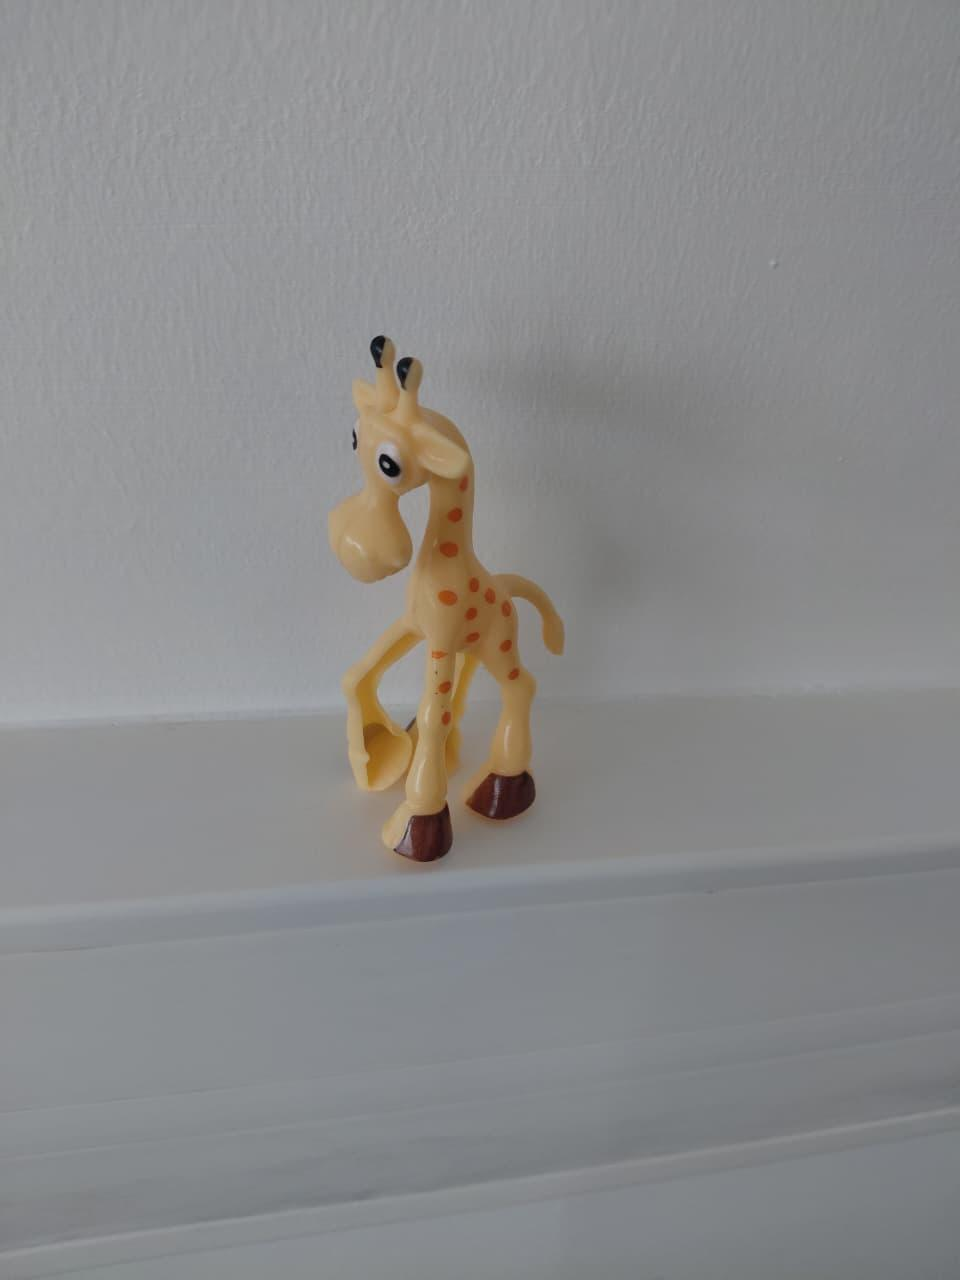giraffe: (313, 315, 636, 895)
